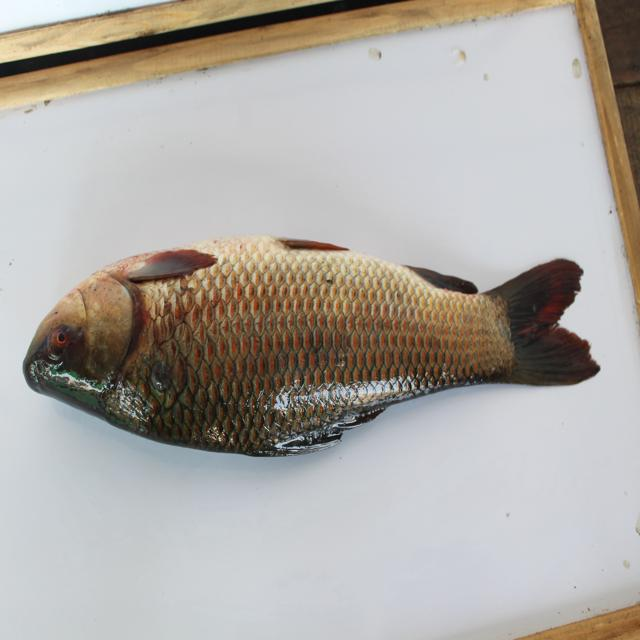Rohu: (10, 220, 598, 465)
